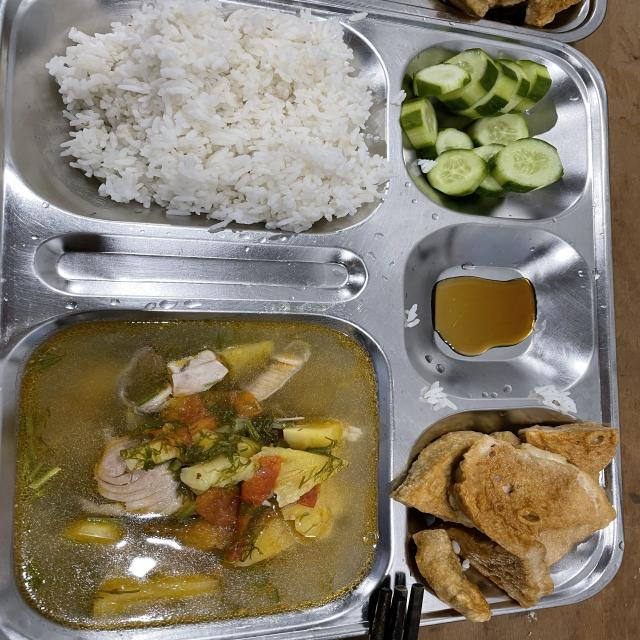canh_chua: (42, 342, 360, 603)
com_trang: (64, 0, 374, 216)
